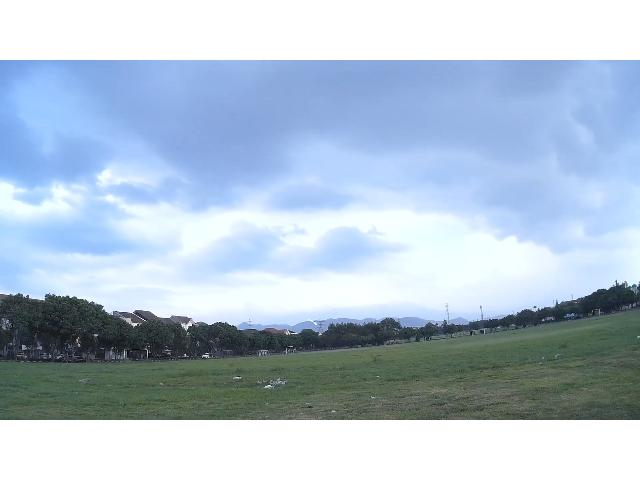Anti-Drone: (308, 319, 318, 326)
